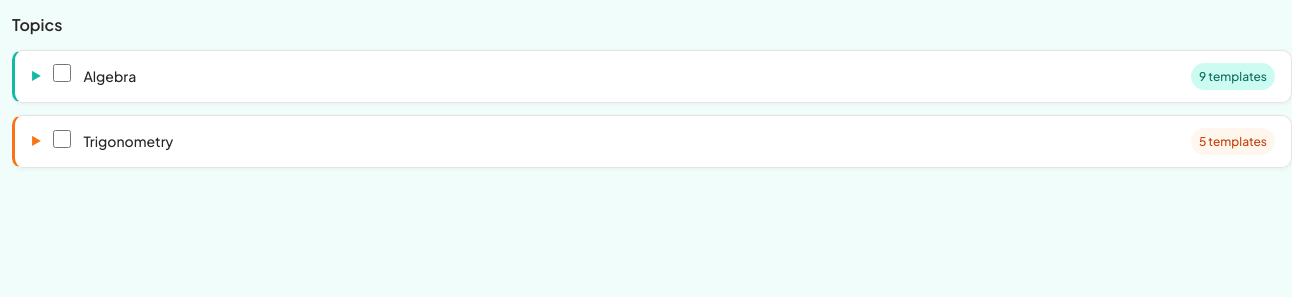
Test: TopicSelector › expand / collapse › clicking expanded topic header collapses it
Click the button "▶ Algebra 9 templates" at (110, 76), box [31,63,1275,90]
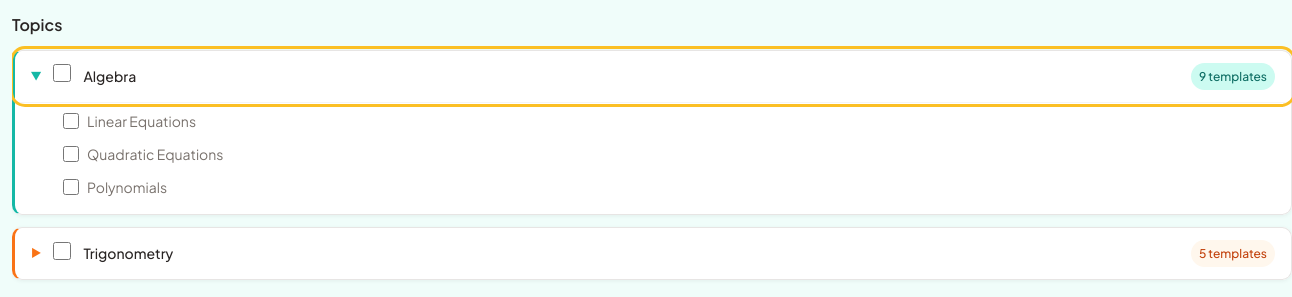
Expected: the button "▶ Algebra 9 templates" is expanded
Click the button "▶ Algebra 9 templates" at (110, 76), box [30,63,1275,90]
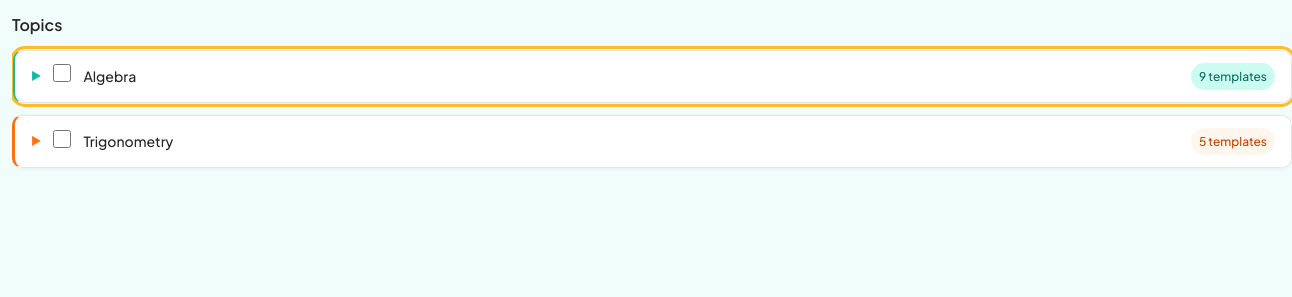
Expected: the button "▶ Algebra 9 templates" is collapsed, [31,63,1275,90]
